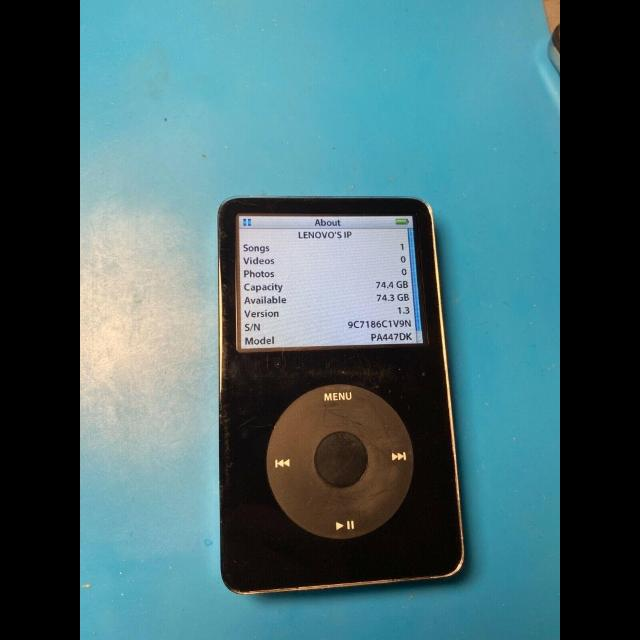Music-Player: (209, 184, 473, 608)
